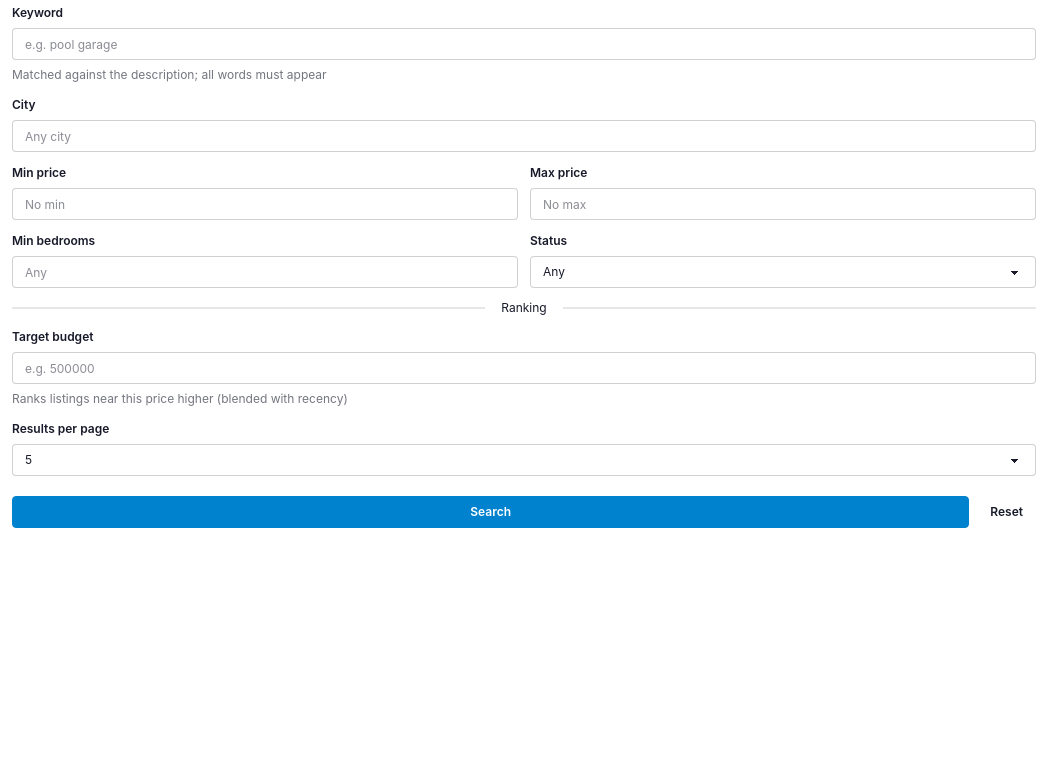
Test: <SearchForm /> › blocks submission and highlights the field when min price exceeds max price
The image size is (1048, 768).
Type "600000" into the field with id "minPrice" at (265, 204), box left=12, top=188, right=518, bottom=220
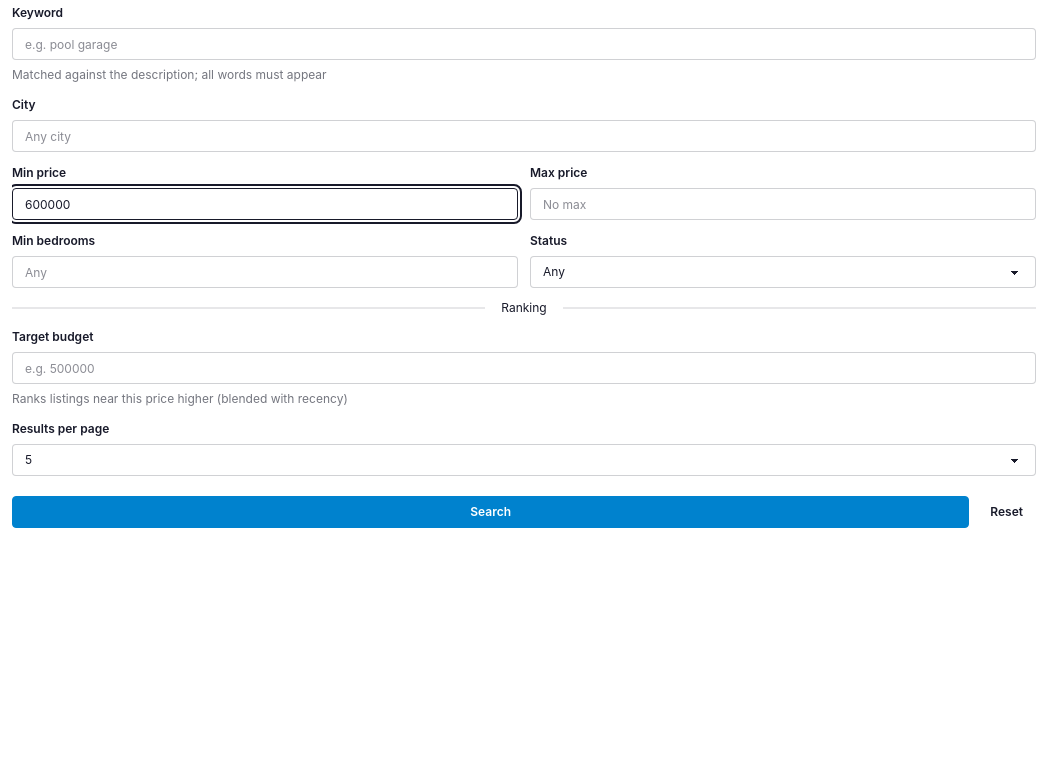
Type "400000" into the field with id "maxPrice" at (783, 204), box left=530, top=188, right=1036, bottom=220
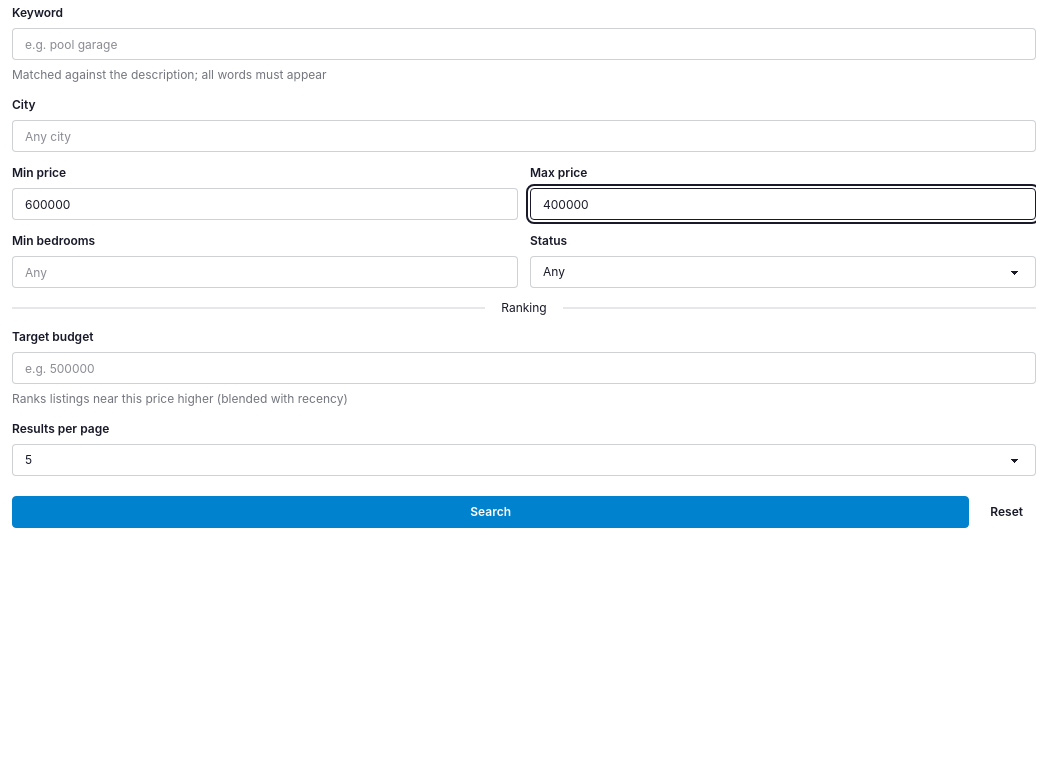
Click the button "Search" at (491, 512), box left=12, top=496, right=969, bottom=528
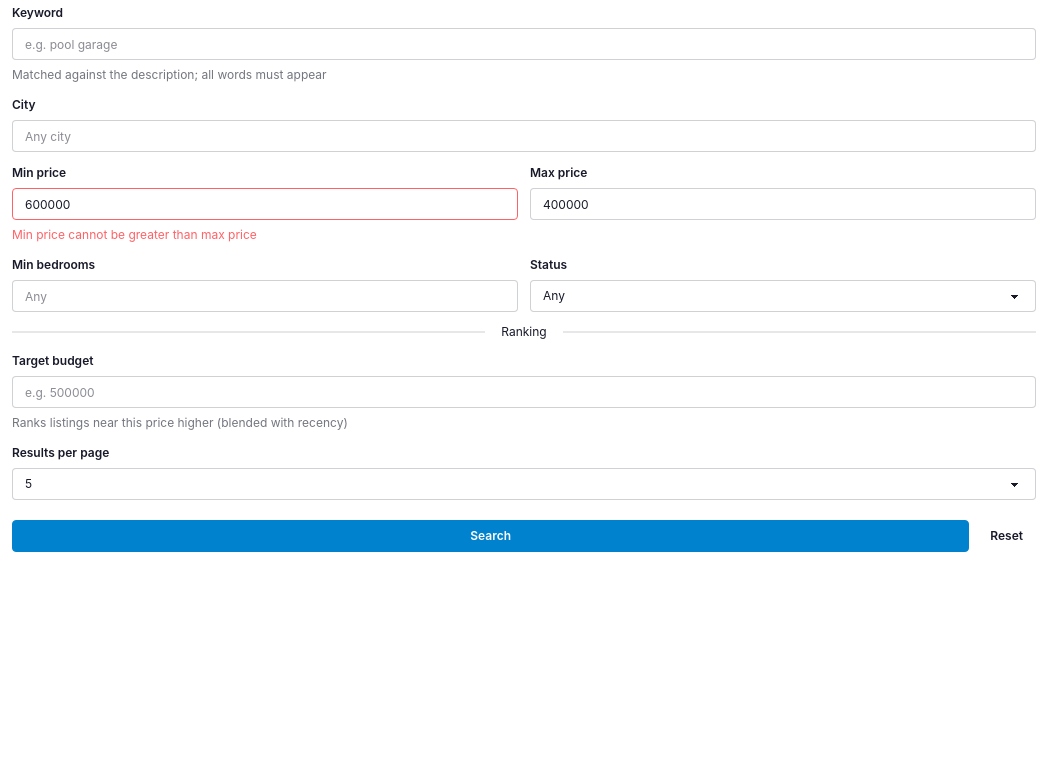
Result: the message with id "minPrice-error" reads "Min price cannot be greater than max price" at left=12, top=227, right=257, bottom=242
